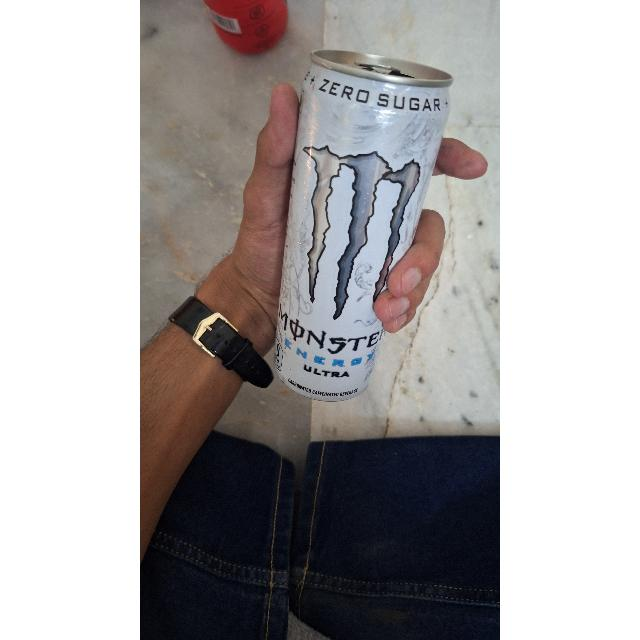White Monster: (284, 50, 456, 398)
